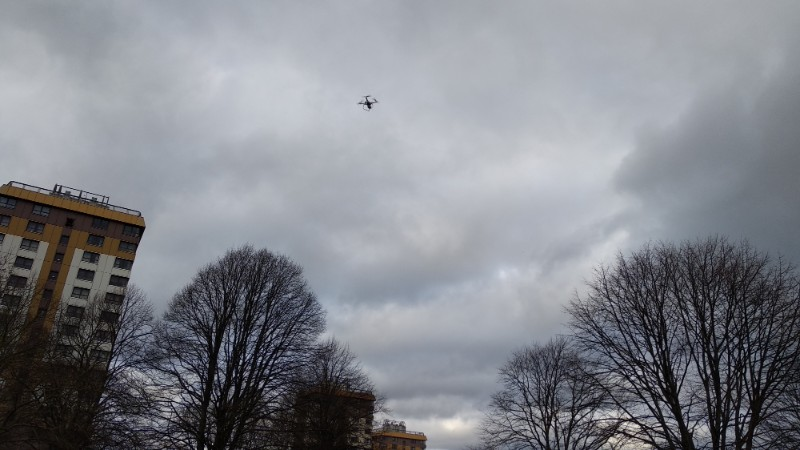drone: (359, 96, 380, 111)
